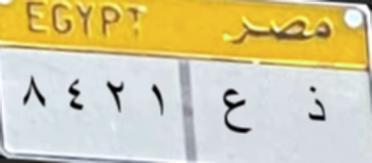1: (142, 80, 176, 126)
2: (103, 77, 132, 121)
4: (63, 76, 90, 120)
8: (20, 70, 50, 117)
ain: (218, 84, 254, 146)
zaal: (296, 84, 329, 130)
